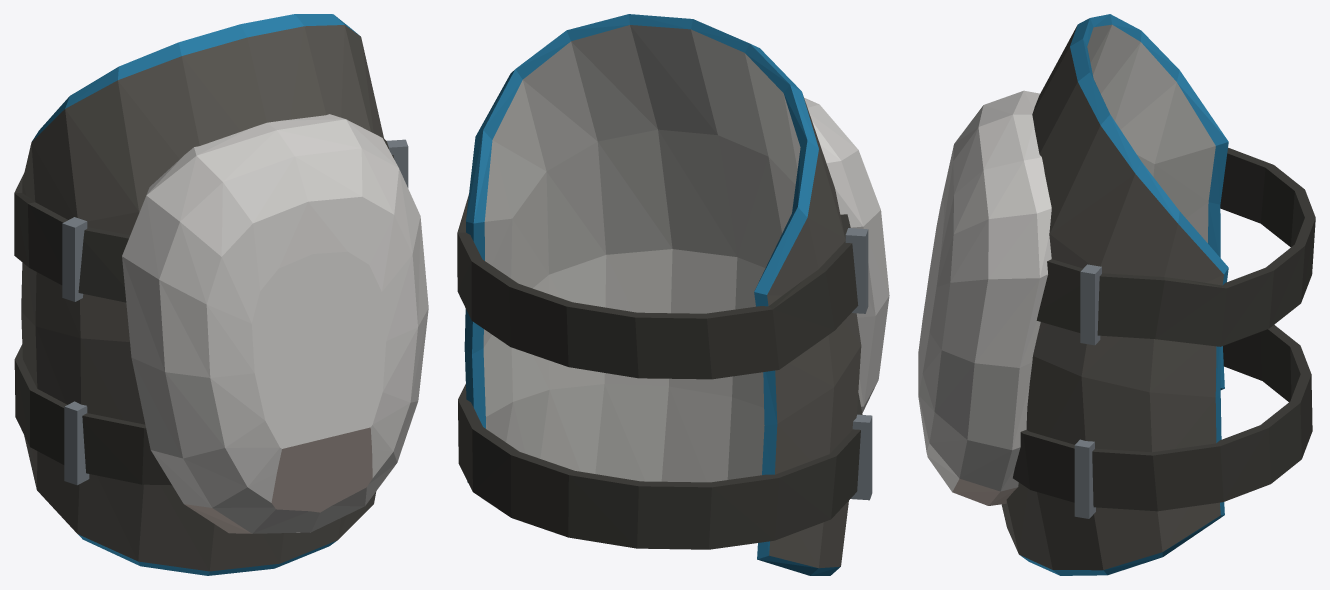
Rendered from protective-pad-4e4b5c.glb.
3 renders of one model, left to right at view 1: azimuth 30°, elevation 25°; view 2: azimuth 150°, elevation 25°; view 3: azimuth 270°, elevation 25°, orthographic. The views are drawn at different scales.
Parts seen in each view (by area): view 1: protective-pad-body; view 2: protective-pad-body; view 3: protective-pad-body.
Part boxes in pixels (x1,y1,x2,y2): protective-pad-body: [14, 14, 428, 575]; protective-pad-body: [457, 14, 889, 575]; protective-pad-body: [918, 14, 1315, 575].
Bounding box in the file's own units: 0.1959 × 0.2794 × 0.2022.
